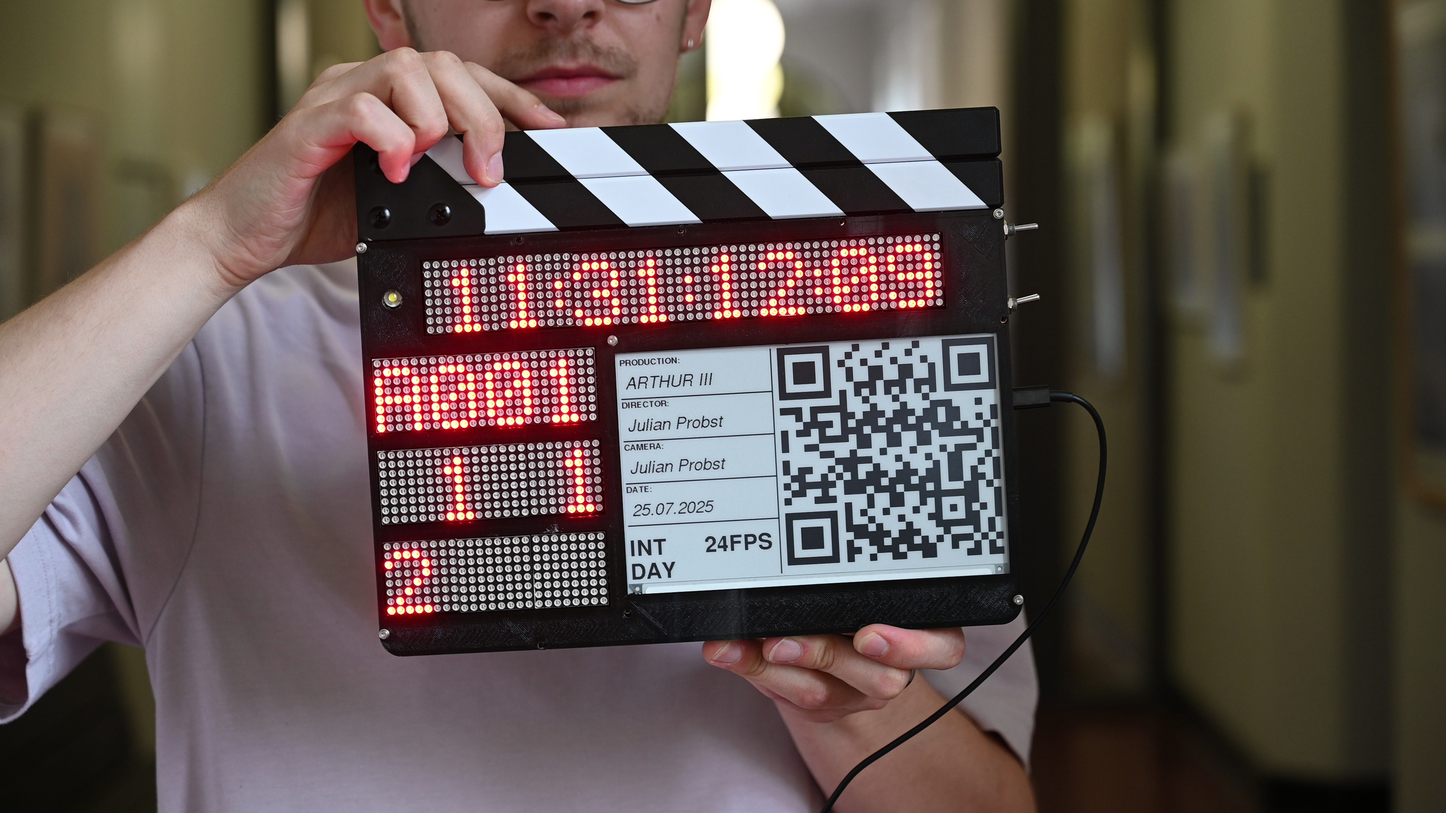ARC-SLATE: (355, 158, 1025, 660)
